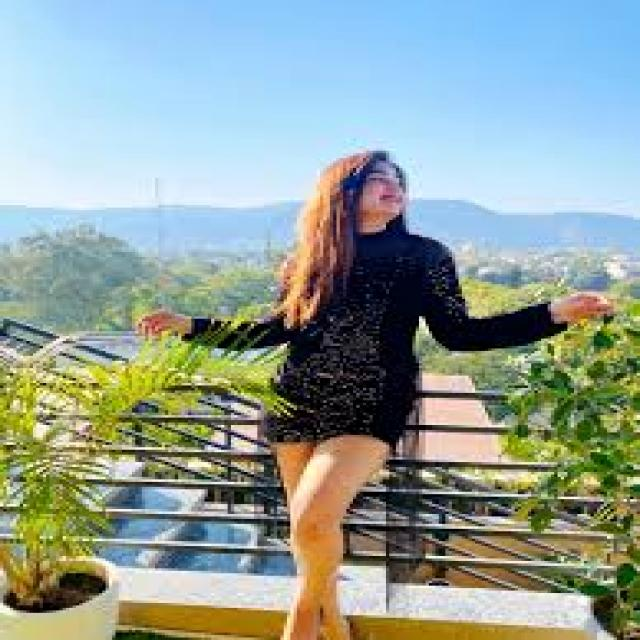dress: (238, 218, 567, 452)
